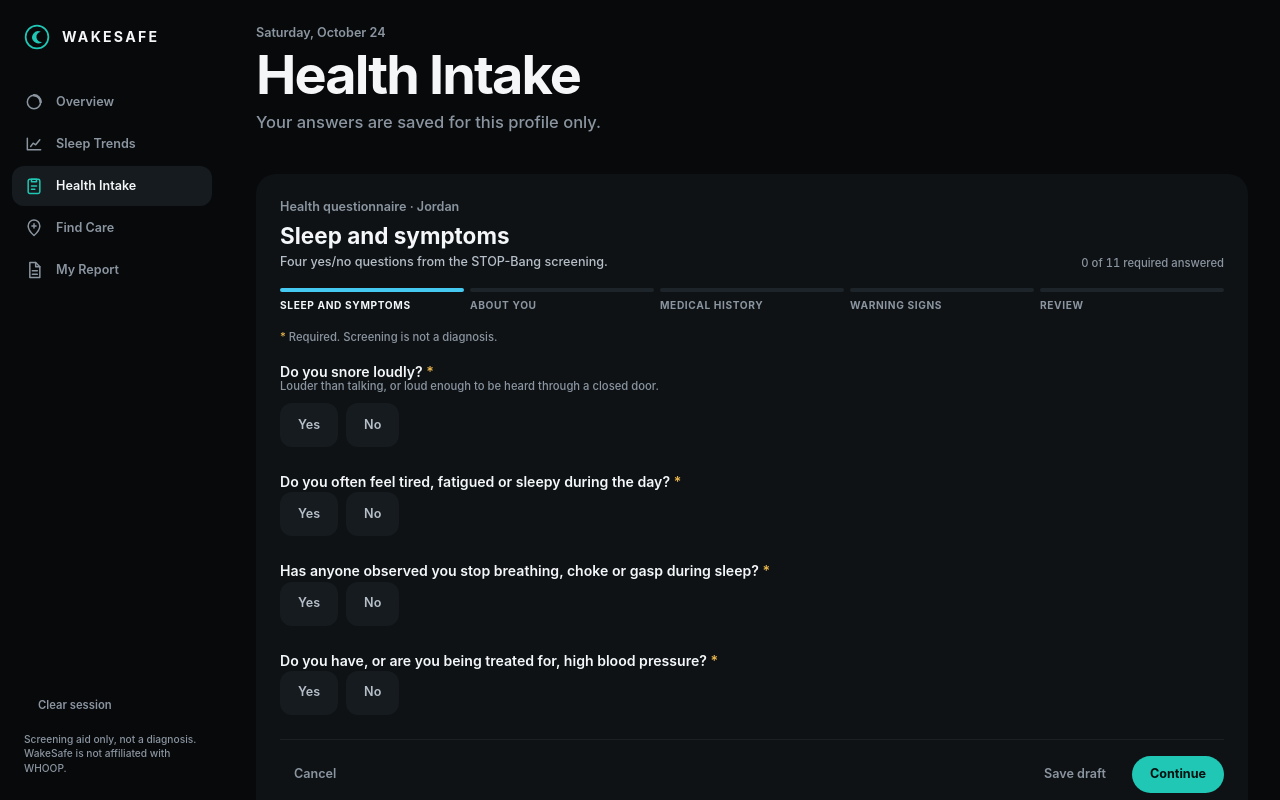
Scenario: questionnaire › blocks Continue on unanswered required questions and explains why
Check: the heading "Sleep and symptoms" is shown, box [280,222,510,249]
# Nothing is prefilled, so every required question starts unanswered.
Click the button "Continue".
click(1178, 774)  # box [1132,756,1224,793]
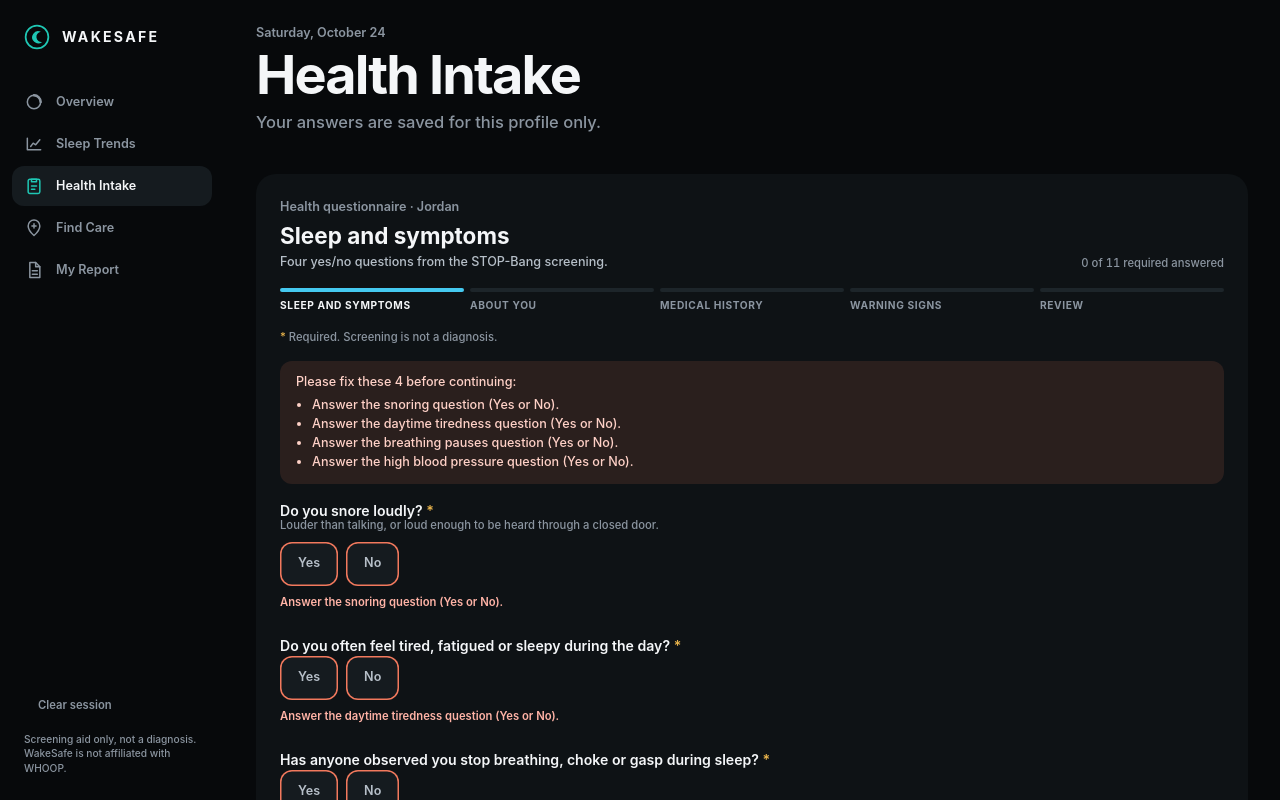
Check: the heading "Sleep and symptoms" is shown, box [280,222,510,249]
Check: the list item "Answer the breathing pauses question (Yes or No)." is shown, box [312,435,618,450]
